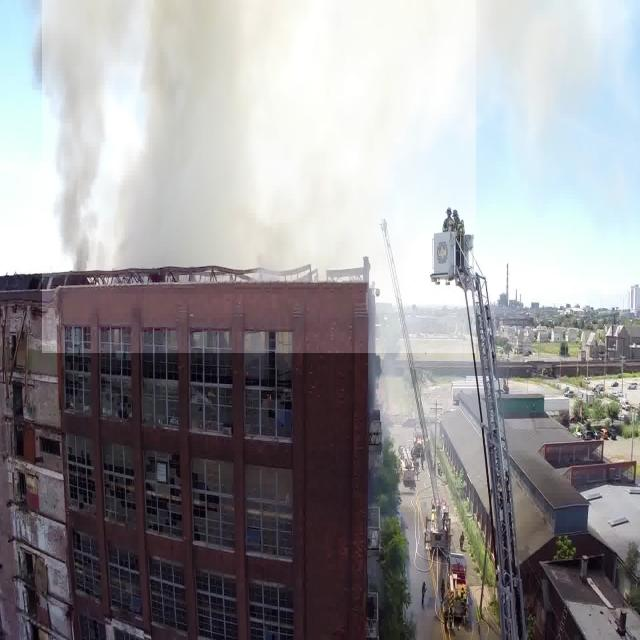Smoke: (42, 0, 476, 353)
